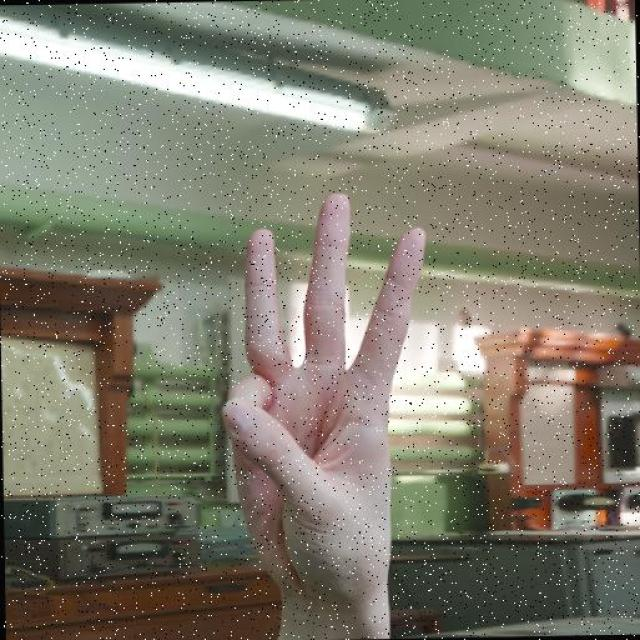W: (212, 184, 435, 640)
